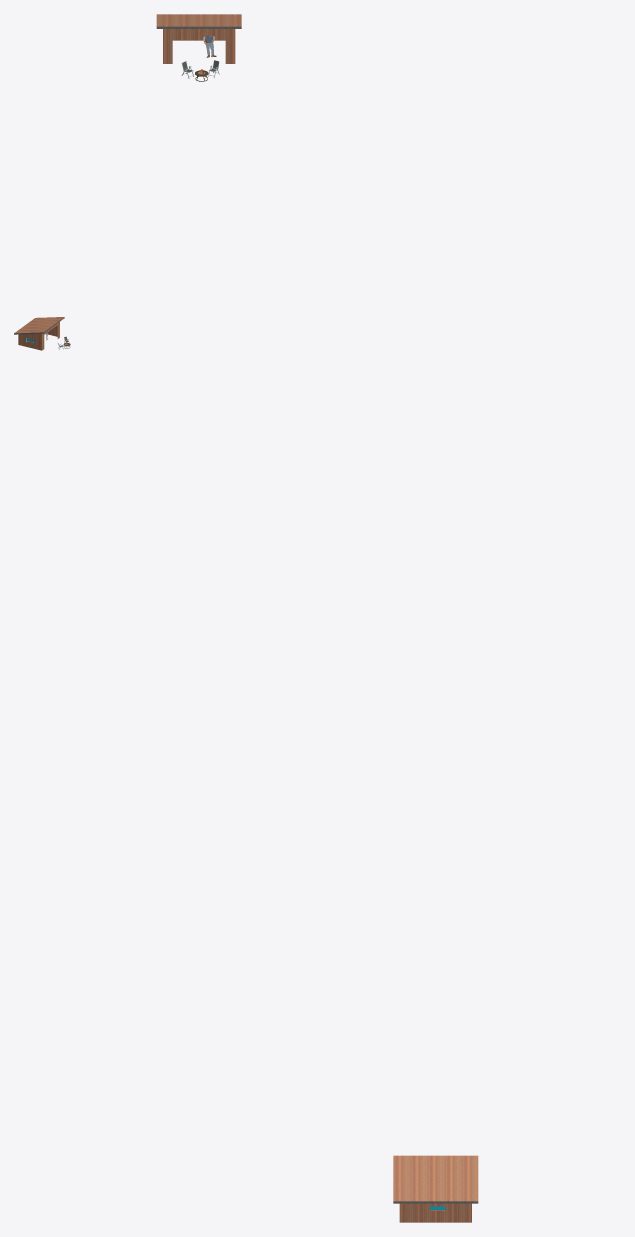
File: Gapahuk_test.glb
The picture shows the model from 3 angles, top to bottom: view 1: azimuth 90°, elevation 25°; view 2: azimuth 150°, elevation 25°; view 3: azimuth 270°, elevation 25°; orthographic projection. The views are drawn at different scales.
Parts seen in each view (by area): view 1: Gapahuk.001; view 2: Gapahuk.001; view 3: Gapahuk.001.
Part boxes in pixels (x1=…): Gapahuk.001: x1=156, y1=14, x2=241, y2=81; Gapahuk.001: x1=14, y1=317, x2=70, y2=350; Gapahuk.001: x1=393, y1=1155, x2=478, y2=1222.
Size of the model in its own units: 140 by 42.22 by 37.06.
Materials: 27 (11 with a texture image).
